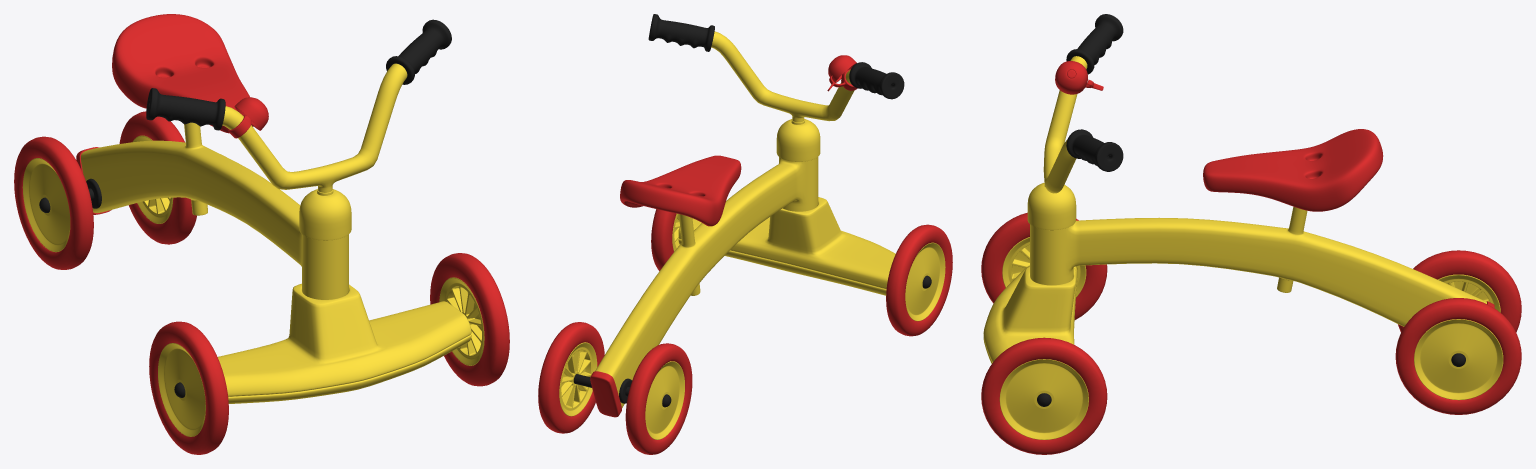
File: Kids_Cycle.fbx
3 renders of one model, left to right at view 1: azimuth 30°, elevation 25°; view 2: azimuth 150°, elevation 25°; view 3: azimuth 270°, elevation 25°, orthographic. The views are drawn at different scales.
Visible parts, largest first — view 1: Body, Wheels, Saddle, HandleBar, HandleGrip, Campaign; view 2: Body, Wheels, Saddle, HandleBar, HandleGrip, Campaign; view 3: Wheels, Body, Saddle, HandleBar, HandleGrip, Campaign.
Boxes of the visible parts, left/top/right/bottom form: Body: left=76, top=122, right=471, bottom=403; Wheels: left=14, top=111, right=509, bottom=454; Saddle: left=112, top=14, right=253, bottom=133; HandleBar: left=222, top=63, right=407, bottom=240; HandleGrip: left=146, top=19, right=451, bottom=130; Campaign: left=228, top=97, right=268, bottom=138; Body: left=590, top=157, right=895, bottom=417; Wheels: left=538, top=209, right=952, bottom=454; Saddle: left=620, top=155, right=741, bottom=226; HandleBar: left=711, top=31, right=854, bottom=161; HandleGrip: left=648, top=14, right=904, bottom=99; Campaign: left=827, top=55, right=857, bottom=91; Wheels: left=981, top=212, right=1521, bottom=454; Body: left=983, top=206, right=1494, bottom=363; Saddle: left=1203, top=129, right=1383, bottom=211; HandleBar: left=1027, top=56, right=1087, bottom=230; HandleGrip: left=1066, top=14, right=1123, bottom=171; Campaign: left=1055, top=61, right=1103, bottom=94.
Size of the model in its own units: 36.39 by 37.88 by 59.63.
